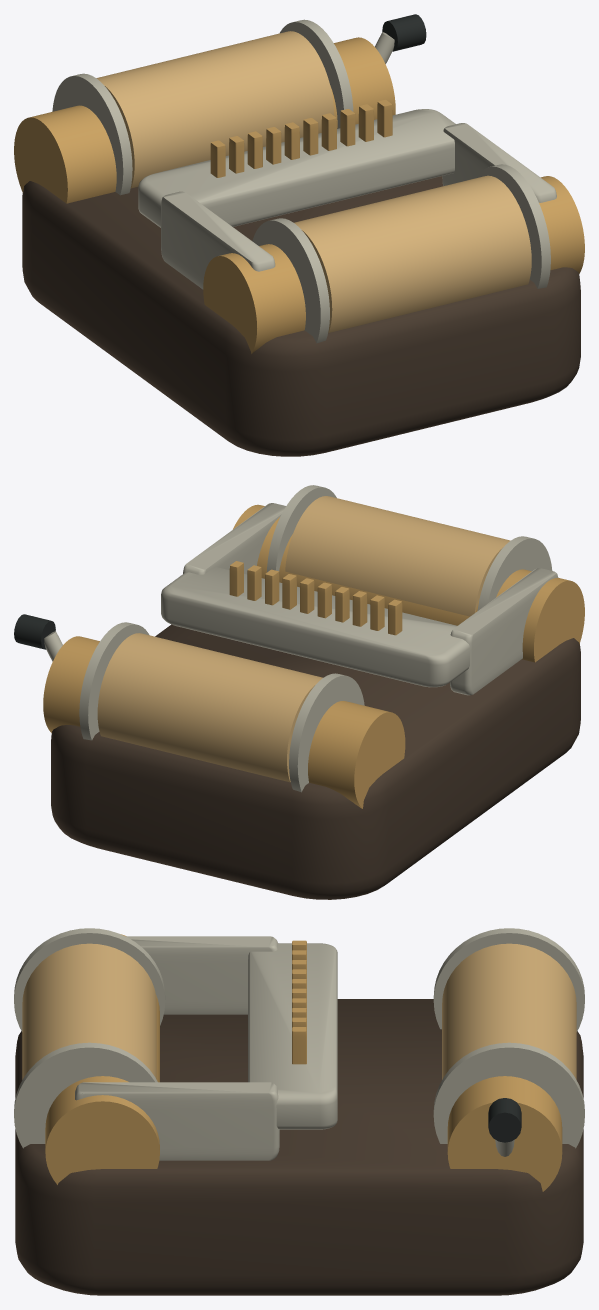
File: Foundry.glb
3 renders of one model, top to bottom at view 1: azimuth 30°, elevation 25°; view 2: azimuth 150°, elevation 25°; view 3: azimuth 270°, elevation 25°, orthographic. The views are drawn at different scales.
Visible parts, largest first — view 1: Recorder casing, Wound paper (×2), Tape axle (×2), Reader throat, Feed reel lip (×4), Ribbon guard (×2), Crank grip; view 2: Recorder casing, Wound paper (×2), Tape axle (×2), Reader throat, Feed reel lip (×4), Ribbon guard (×2), Crank grip; view 3: Recorder casing, Wound paper (×2), Feed reel lip (×4), Ribbon guard (×2), Tape axle (×2), Reader throat, Crank grip, Reader spring.
Part boxes in pixels (box(x1,y1,x2,y2)): Recorder casing: box(22, 176, 580, 456); Wound paper (×2): box(96, 31, 531, 332); Tape axle (×2): box(14, 37, 584, 353); Reader throat: box(138, 109, 455, 227); Feed reel lip (×4): box(52, 19, 550, 343); Ribbon guard (×2): box(161, 123, 556, 289); Crank grip: box(382, 14, 426, 51); Recorder casing: box(51, 624, 580, 899); Wound paper (×2): box(97, 496, 510, 782); Tape axle (×2): box(43, 504, 584, 808); Reader throat: box(161, 566, 469, 687); Feed reel lip (×4): box(79, 485, 552, 792); Ribbon guard (×2): box(183, 503, 558, 695); Crank grip: box(14, 614, 55, 649); Recorder casing: box(15, 999, 583, 1295); Wound paper (×2): box(22, 943, 576, 1079); Feed reel lip (×4): box(14, 928, 584, 1148); Ribbon guard (×2): box(75, 936, 279, 1160); Tape axle (×2): box(45, 934, 562, 1191); Reader throat: box(248, 943, 337, 1129); Crank grip: box(488, 1098, 521, 1142); Reader spring: box(292, 1027, 306, 1064).
Bounding box in the file's own units: 1.09 × 0.5675 × 1.31.
